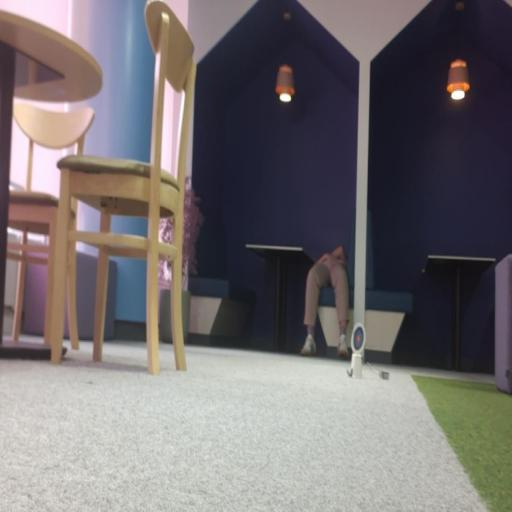target: (351, 323, 365, 353)
